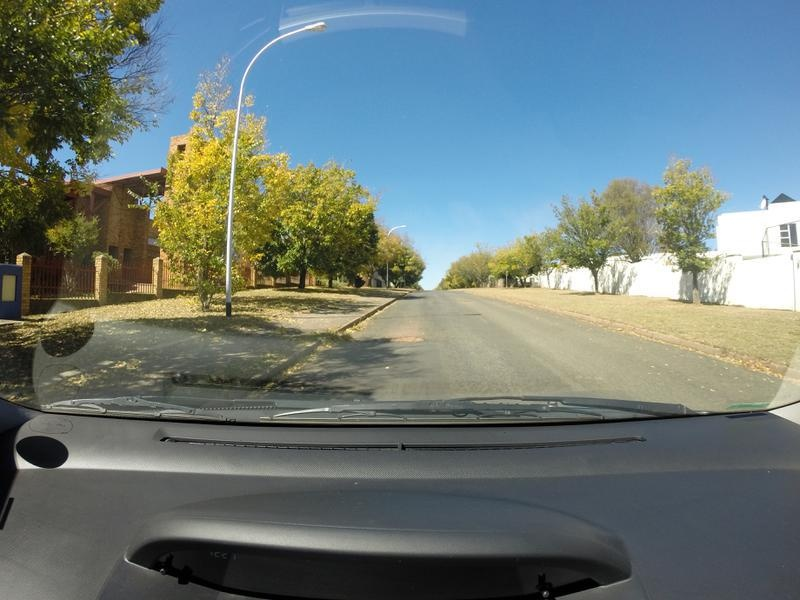pothole: (383, 329, 431, 348)
